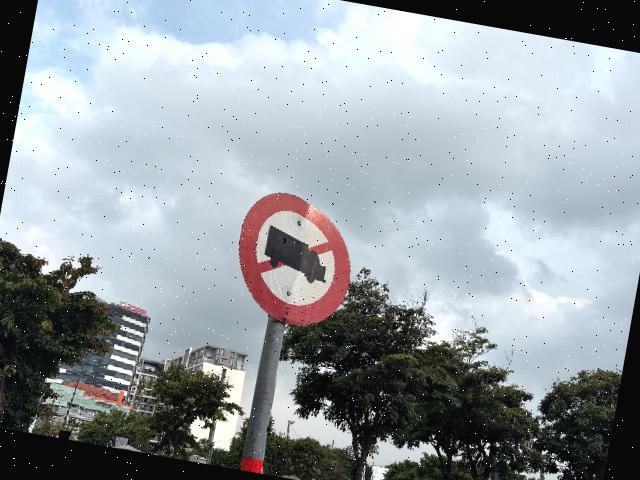cam-xe-tai: (224, 186, 362, 331)
